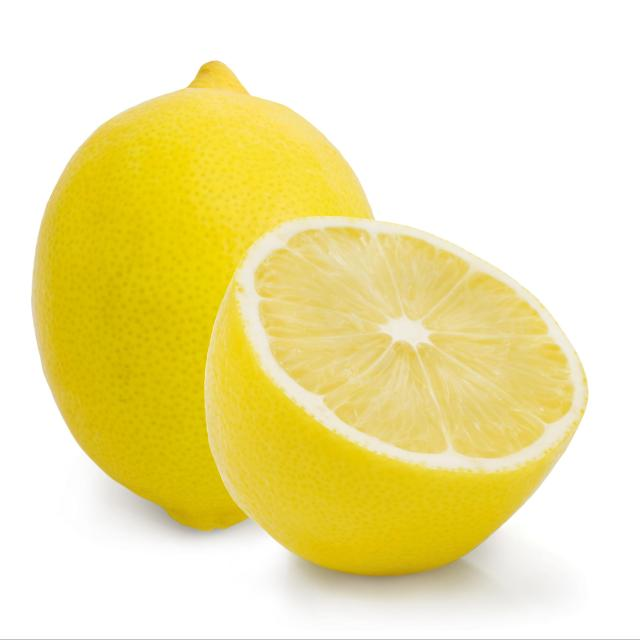lemon: (197, 212, 592, 582)
